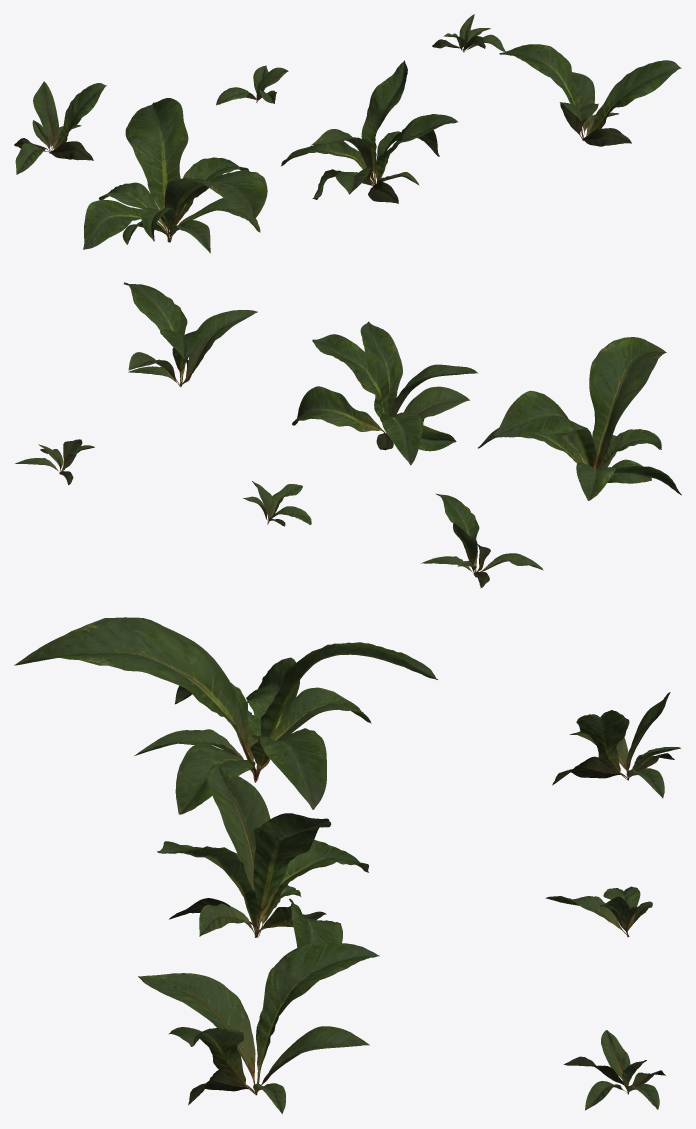
Rendered from anthurium_botany_01.glb.
3 renders of one model, top to bottom at view 1: azimuth 30°, elevation 25°; view 2: azimuth 150°, elevation 25°; view 3: azimuth 270°, elevation 25°, orthographic. The views are drawn at different scales.
Parts seen in each view (by area): view 1: anthurium_botany_01_a; view 2: anthurium_botany_01_a; view 3: anthurium_botany_01_a.
Boxes of the visible parts, x1=… form: anthurium_botany_01_a: x1=14, y1=14, x2=681, y2=253; anthurium_botany_01_a: x1=15, y1=282, x2=681, y2=588; anthurium_botany_01_a: x1=14, y1=617, x2=680, y2=1114.
Bounding box in the file's own units: 2.8 × 0.4997 × 1.8.
Materials: 1 (1 with a texture image).
